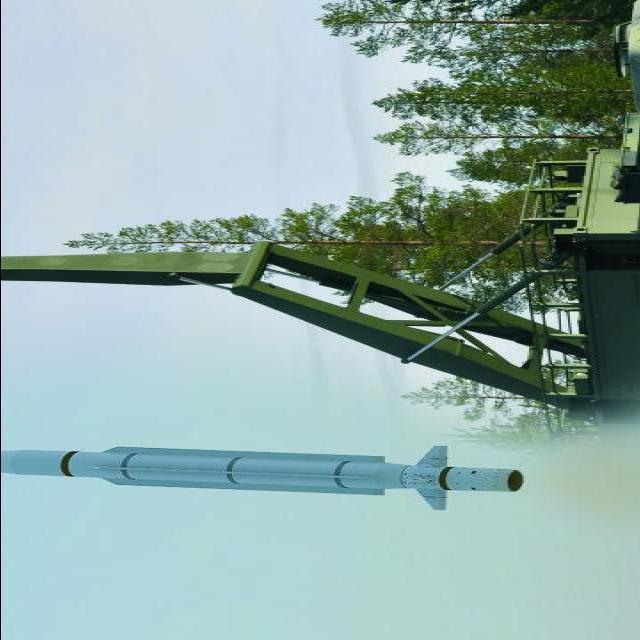missile: (0, 440, 526, 511)
